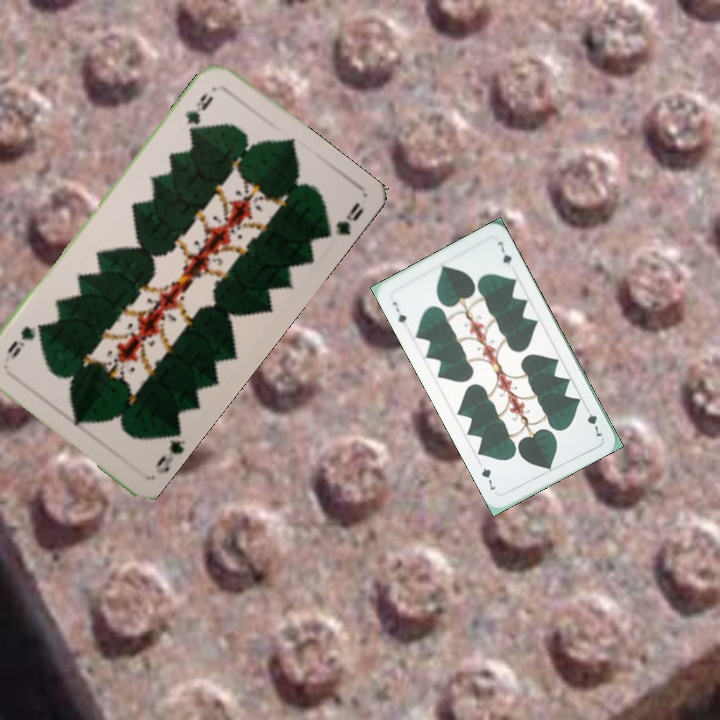G7: (581, 402, 605, 439), (388, 298, 409, 326)
G9: (151, 425, 189, 477), (181, 88, 216, 137)
